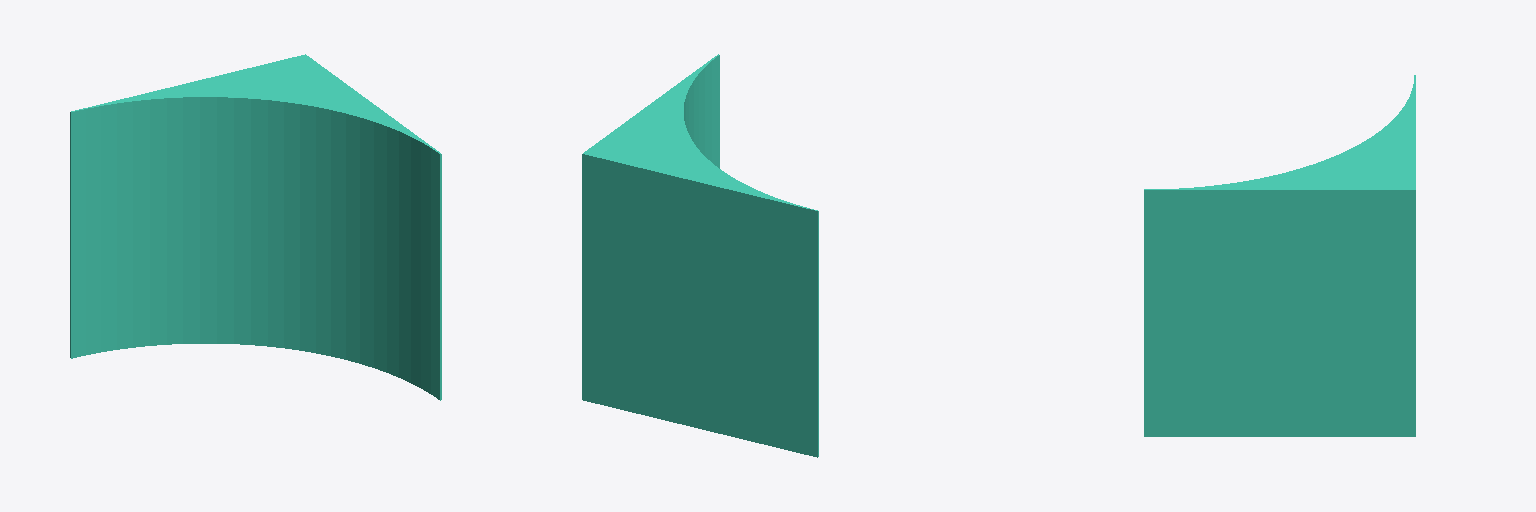
File: muroEsquina.obj
3 views of the same model, side by side, from view 1: azimuth 30°, elevation 25°; view 2: azimuth 150°, elevation 25°; view 3: azimuth 270°, elevation 25° (orthographic).
Parts seen in each view (by area): view 1: Box001; view 2: Box001; view 3: Box001.
Part boxes in pixels (left/top/right/bottom): Box001: left=70, top=54, right=441, bottom=400; Box001: left=582, top=54, right=818, bottom=457; Box001: left=1144, top=75, right=1415, bottom=436.
Size of the model in its own units: 1 by 1 by 1.